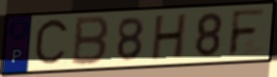8: (194, 11, 224, 59), (116, 16, 145, 63)
B: (69, 15, 112, 67)
C: (32, 16, 71, 70)
F: (226, 7, 268, 59)
H: (149, 11, 190, 62)
